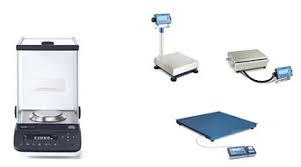Industrial Scale: (13, 37, 81, 154), (175, 110, 258, 162), (152, 14, 201, 83), (225, 49, 294, 84)
